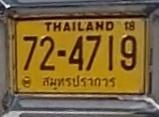1: (108, 35, 112, 70)
2: (39, 36, 54, 70)
4: (68, 35, 83, 70)
7: (85, 34, 100, 70), (22, 35, 37, 70)
9: (120, 34, 136, 70)
SPK: (41, 74, 116, 91)
